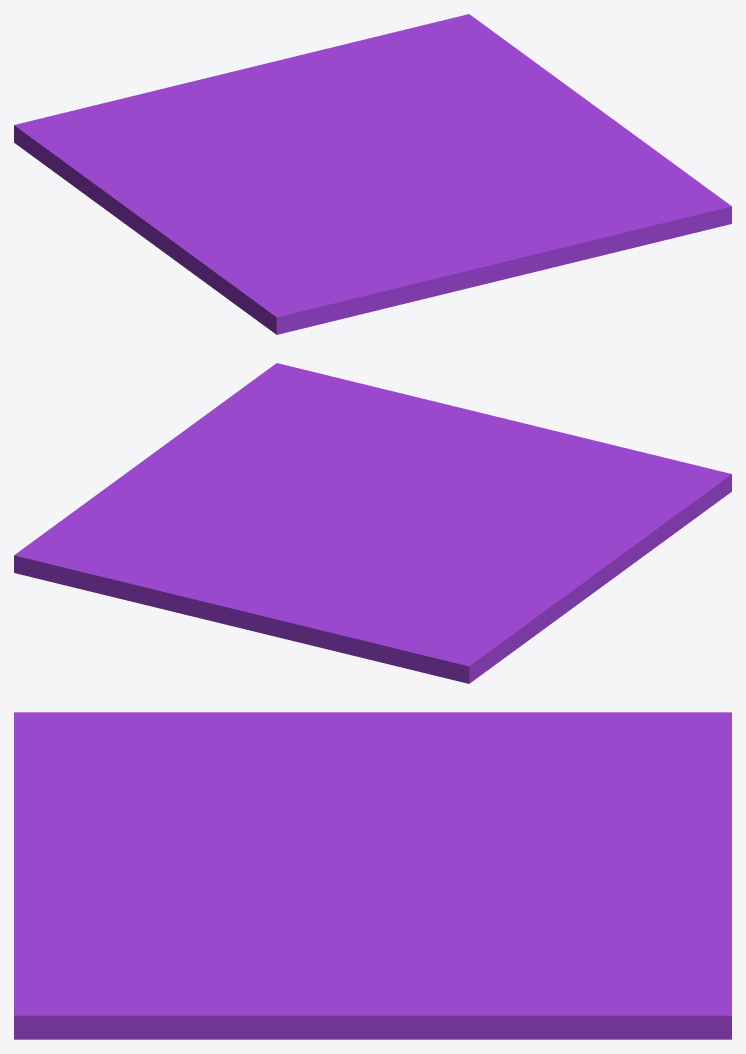
Rendered from Platform_35_chunks.fbx.
The picture shows the model from 3 angles, top to bottom: view 1: azimuth 30°, elevation 25°; view 2: azimuth 150°, elevation 25°; view 3: azimuth 270°, elevation 25°; orthographic projection. The views are drawn at different scales.
Visible parts, largest first — view 1: Platform_35_5, Platform_35_2, Platform_35_8, Platform_35_6, Platform_35_7, Platform_35_4, Platform_35_11, Platform_35_21, Platform_35_18, Platform_35_16, Platform_35_14, Platform_35_20 (+8 smaller); view 2: Platform_35_5, Platform_35_2, Platform_35_8, Platform_35_7, Platform_35_6, Platform_35_4, Platform_35_11, Platform_35_18, Platform_35_21, Platform_35_20, Platform_35_10, Platform_35_16 (+7 smaller); view 3: Platform_35_5, Platform_35_2, Platform_35_8, Platform_35_6, Platform_35_7, Platform_35_4, Platform_35_11, Platform_35_21, Platform_35_10, Platform_35_18, Platform_35_20, Platform_35_1 (+9 smaller).
Boxes of the visible parts, x1,y1,x2,y2 form: Platform_35_5: [14, 76, 336, 176]; Platform_35_2: [422, 158, 731, 238]; Platform_35_8: [288, 14, 574, 109]; Platform_35_6: [393, 103, 662, 164]; Platform_35_7: [214, 58, 421, 163]; Platform_35_4: [238, 146, 366, 285]; Platform_35_11: [298, 163, 443, 254]; Platform_35_21: [64, 156, 250, 235]; Platform_35_18: [51, 154, 214, 274]; Platform_35_16: [464, 233, 630, 283]; Platform_35_14: [318, 260, 487, 324]; Platform_35_20: [195, 233, 268, 322]; Platform_35_5: [268, 537, 509, 683]; Platform_35_2: [224, 363, 473, 488]; Platform_35_8: [14, 478, 236, 618]; Platform_35_7: [196, 508, 369, 634]; Platform_35_6: [137, 413, 358, 518]; Platform_35_4: [351, 492, 671, 555]; Platform_35_11: [336, 475, 583, 518]; Platform_35_18: [506, 534, 650, 656]; Platform_35_21: [486, 525, 595, 632]; Platform_35_20: [573, 489, 717, 550]; Platform_35_10: [580, 462, 731, 499]; Platform_35_16: [387, 390, 517, 446]; Platform_35_5: [428, 712, 731, 859]; Platform_35_2: [14, 854, 325, 1020]; Platform_35_8: [422, 894, 731, 1039]; Platform_35_6: [201, 875, 461, 1039]; Platform_35_7: [365, 845, 731, 923]; Platform_35_4: [107, 730, 452, 862]; Platform_35_11: [157, 768, 383, 899]; Platform_35_21: [267, 716, 610, 774]; Platform_35_10: [14, 712, 186, 778]; Platform_35_18: [238, 712, 621, 736]; Platform_35_20: [70, 712, 283, 756]; Platform_35_1: [14, 982, 236, 1039].
Bounding box in the file's own units: 810 × 29.87 × 810.
